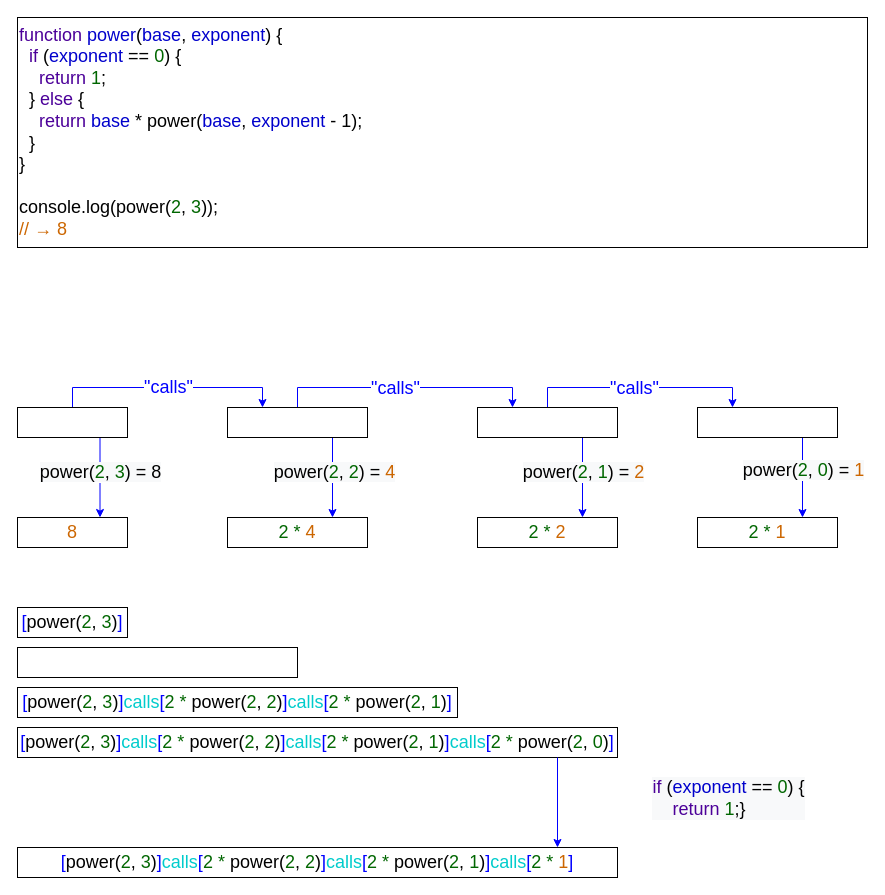
Some shapes in this 885 by 895 pixel diagram are drawn without their labels. The box of each missing label's shape, as (x1, y1, x2, y2) in pixels:
2 * power( 2 , 0 ): (696, 406, 838, 438)
2 * power( 2 , 1 ): (476, 406, 618, 438)
2 * power( 2 , 2 ): (226, 406, 368, 438)
[ power( 2 , 3 ) ] calls [ 2 * power( 2 , 2 ) ]: (16, 646, 298, 678)
power( 2 , 3 ): (16, 406, 128, 438)
